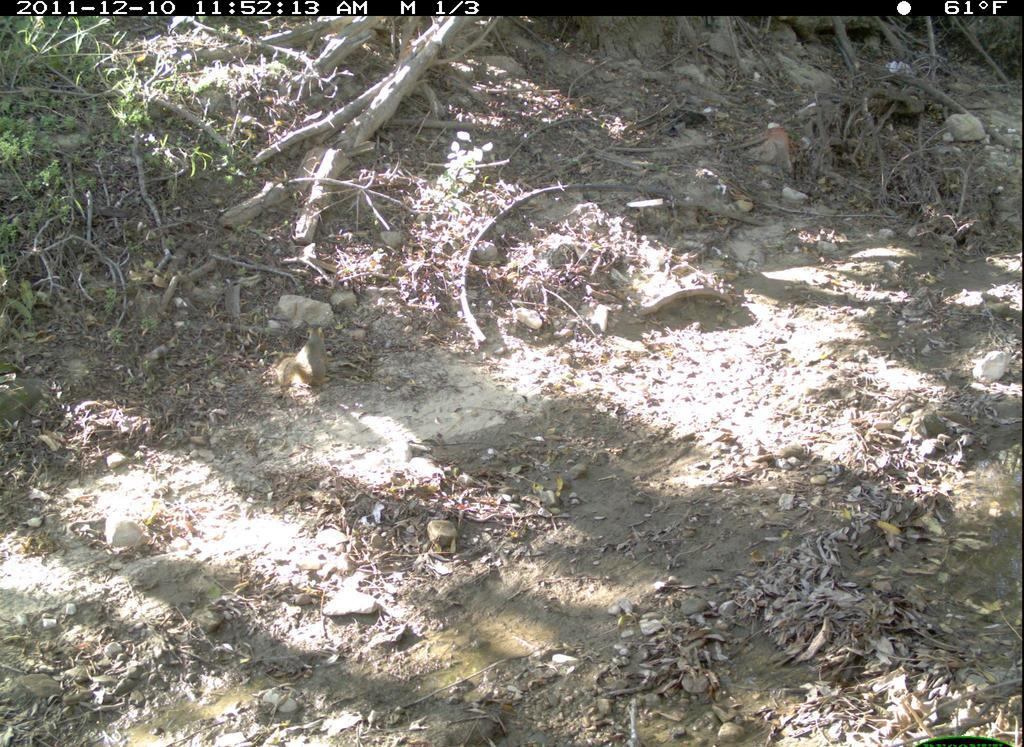squirrel: (265, 319, 340, 398)
